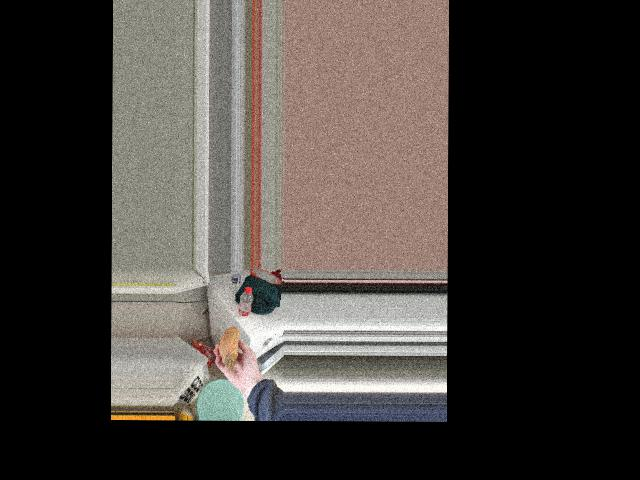sweet_potato: (220, 316, 238, 364)
